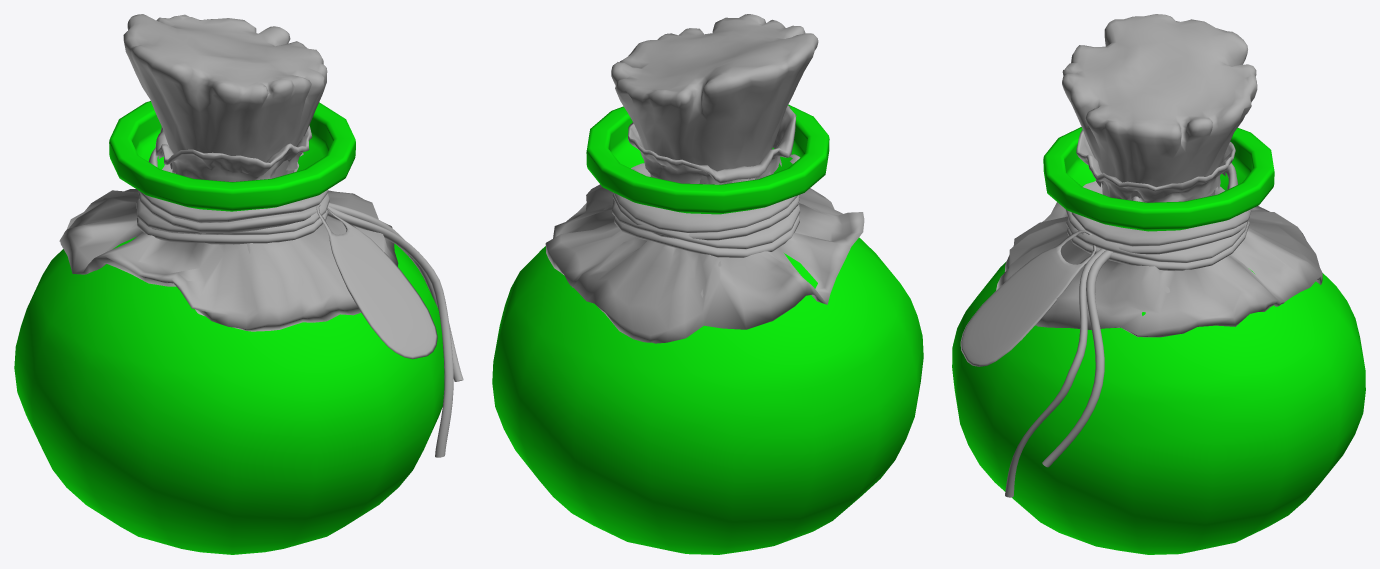
The model's file is Potion Bottle.FBX.
3 renders of one model, left to right at view 1: azimuth 30°, elevation 25°; view 2: azimuth 150°, elevation 25°; view 3: azimuth 270°, elevation 25°, orthographic. The views are drawn at different scales.
Visible parts, largest first — view 1: polySurface48; view 2: polySurface48; view 3: polySurface48.
Boxes of the visible parts, bbox=[...] form: polySurface48: bbox=[14, 14, 463, 554]; polySurface48: bbox=[492, 14, 923, 554]; polySurface48: bbox=[952, 14, 1365, 554].
Bounding box in the file's own units: 0.5423 × 0.5501 × 0.688.
